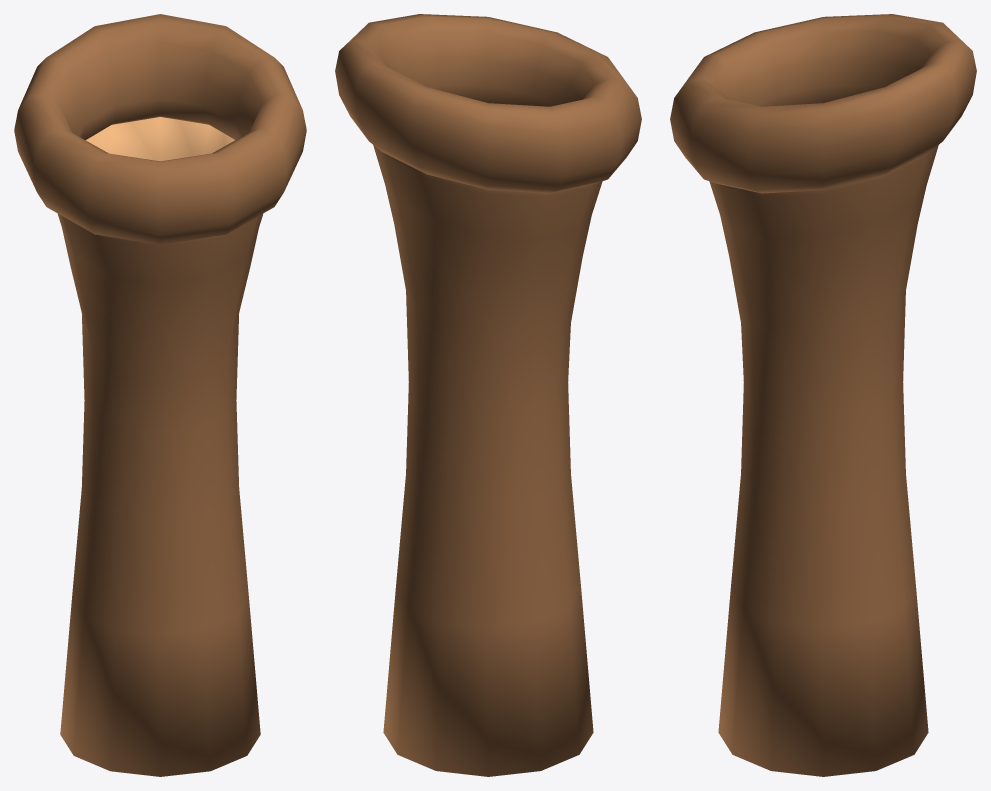
File: Ogre Ear.fbx
3 renders of one model, left to right at view 1: azimuth 30°, elevation 25°; view 2: azimuth 150°, elevation 25°; view 3: azimuth 270°, elevation 25°, orthographic. The views are drawn at different scales.
Visible parts, largest first — view 1: Ogre Ear - takumoaki (Mr Fear); view 2: Ogre Ear - takumoaki (Mr Fear); view 3: Ogre Ear - takumoaki (Mr Fear).
Part boxes in pixels (box(x1,y1,x2,y2)): Ogre Ear - takumoaki (Mr Fear): box(14, 14, 306, 776); Ogre Ear - takumoaki (Mr Fear): box(335, 14, 641, 776); Ogre Ear - takumoaki (Mr Fear): box(670, 14, 976, 776).
Size of the model in its own units: 15.59 by 39.09 by 15.59.
